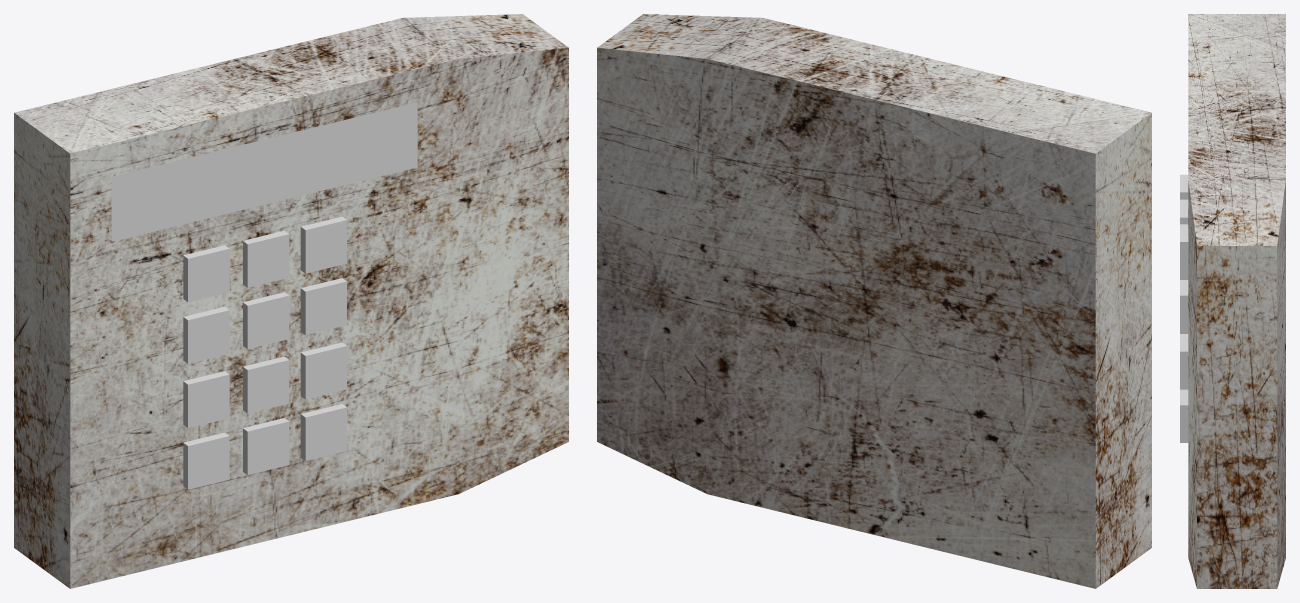
File: PainelSenha.fbx
The picture shows the model from 3 angles, left to right: view 1: azimuth 30°, elevation 25°; view 2: azimuth 150°, elevation 25°; view 3: azimuth 270°, elevation 25°; orthographic projection. The views are drawn at different scales.
Visible parts, largest first — view 1: pCube1, pCube9, pCube11, pCube3, pCube4, pCube5, pCube6, pCube7, pCube8, pCube10, pCube12, pCube2 (+1 smaller); view 2: pCube1; view 3: pCube1, pCube4, pCube10, pCube7, pCube13, pCube2, pCube3.
Boxes of the visible parts, left/top/right/bottom form: pCube1: left=14, top=14, right=568, bottom=588; pCube9: left=243, top=356, right=289, bottom=413; pCube11: left=183, top=432, right=229, bottom=489; pCube3: left=243, top=230, right=289, bottom=287; pCube4: left=300, top=216, right=346, bottom=273; pCube5: left=183, top=306, right=229, bottom=363; pCube6: left=243, top=292, right=289, bottom=349; pCube7: left=300, top=278, right=346, bottom=335; pCube8: left=183, top=371, right=229, bottom=428; pCube10: left=300, top=342, right=346, bottom=399; pCube12: left=243, top=418, right=289, bottom=474; pCube2: left=183, top=245, right=229, bottom=302; pCube1: left=597, top=14, right=1151, bottom=588; pCube1: left=1188, top=14, right=1285, bottom=588; pCube4: left=1180, top=224, right=1188, bottom=279; pCube10: left=1180, top=334, right=1188, bottom=389; pCube7: left=1180, top=280, right=1188, bottom=333; pCube13: left=1180, top=389, right=1188, bottom=442; pCube2: left=1180, top=174, right=1188, bottom=199; pCube3: left=1180, top=199, right=1188, bottom=224.
Size of the model in its own units: 0.3941 by 0.3254 by 0.0825.
Materials: 3 (1 with a texture image).
